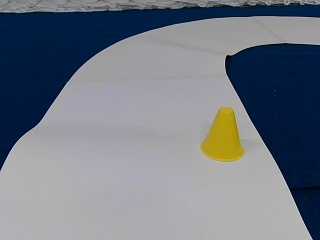cone: (201, 107, 244, 161)
